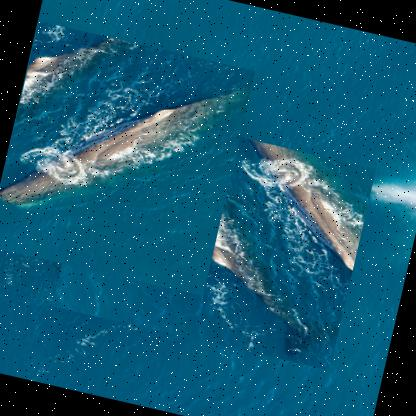sperm_whale: (51, 102, 376, 370), (0, 19, 256, 296)
